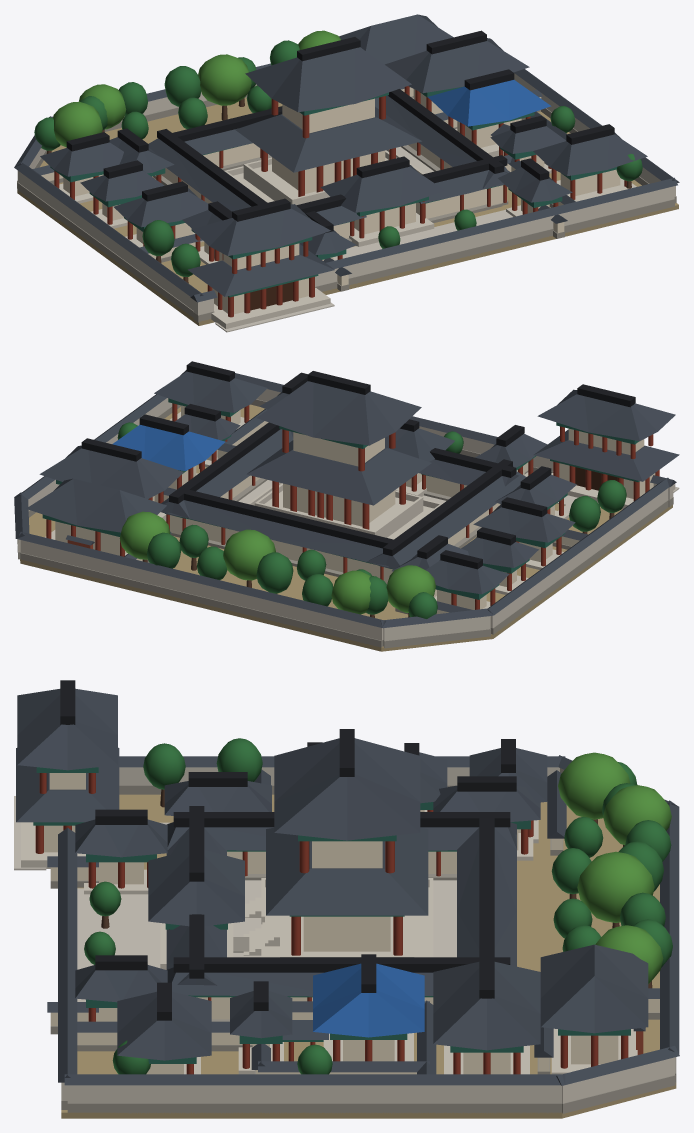
Rendered from changdeokgung.glb.
3 views of the same model, one above another, from view 1: azimuth 30°, elevation 25°; view 2: azimuth 150°, elevation 25°; view 3: azimuth 270°, elevation 25° (orthographic). The views are drawn at different scales.
Size of the model in its own units: 72.06 by 20.91 by 61.95.
